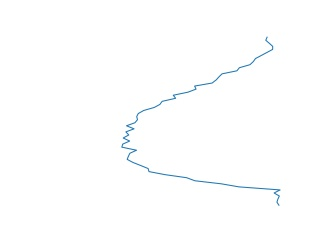underwaterDistributaryChannel: (119, 34, 288, 208)
